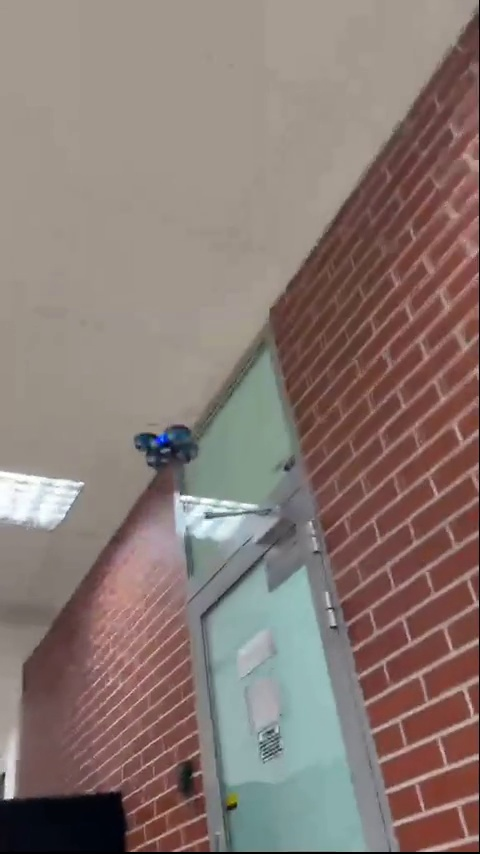drone: (140, 429, 197, 475)
